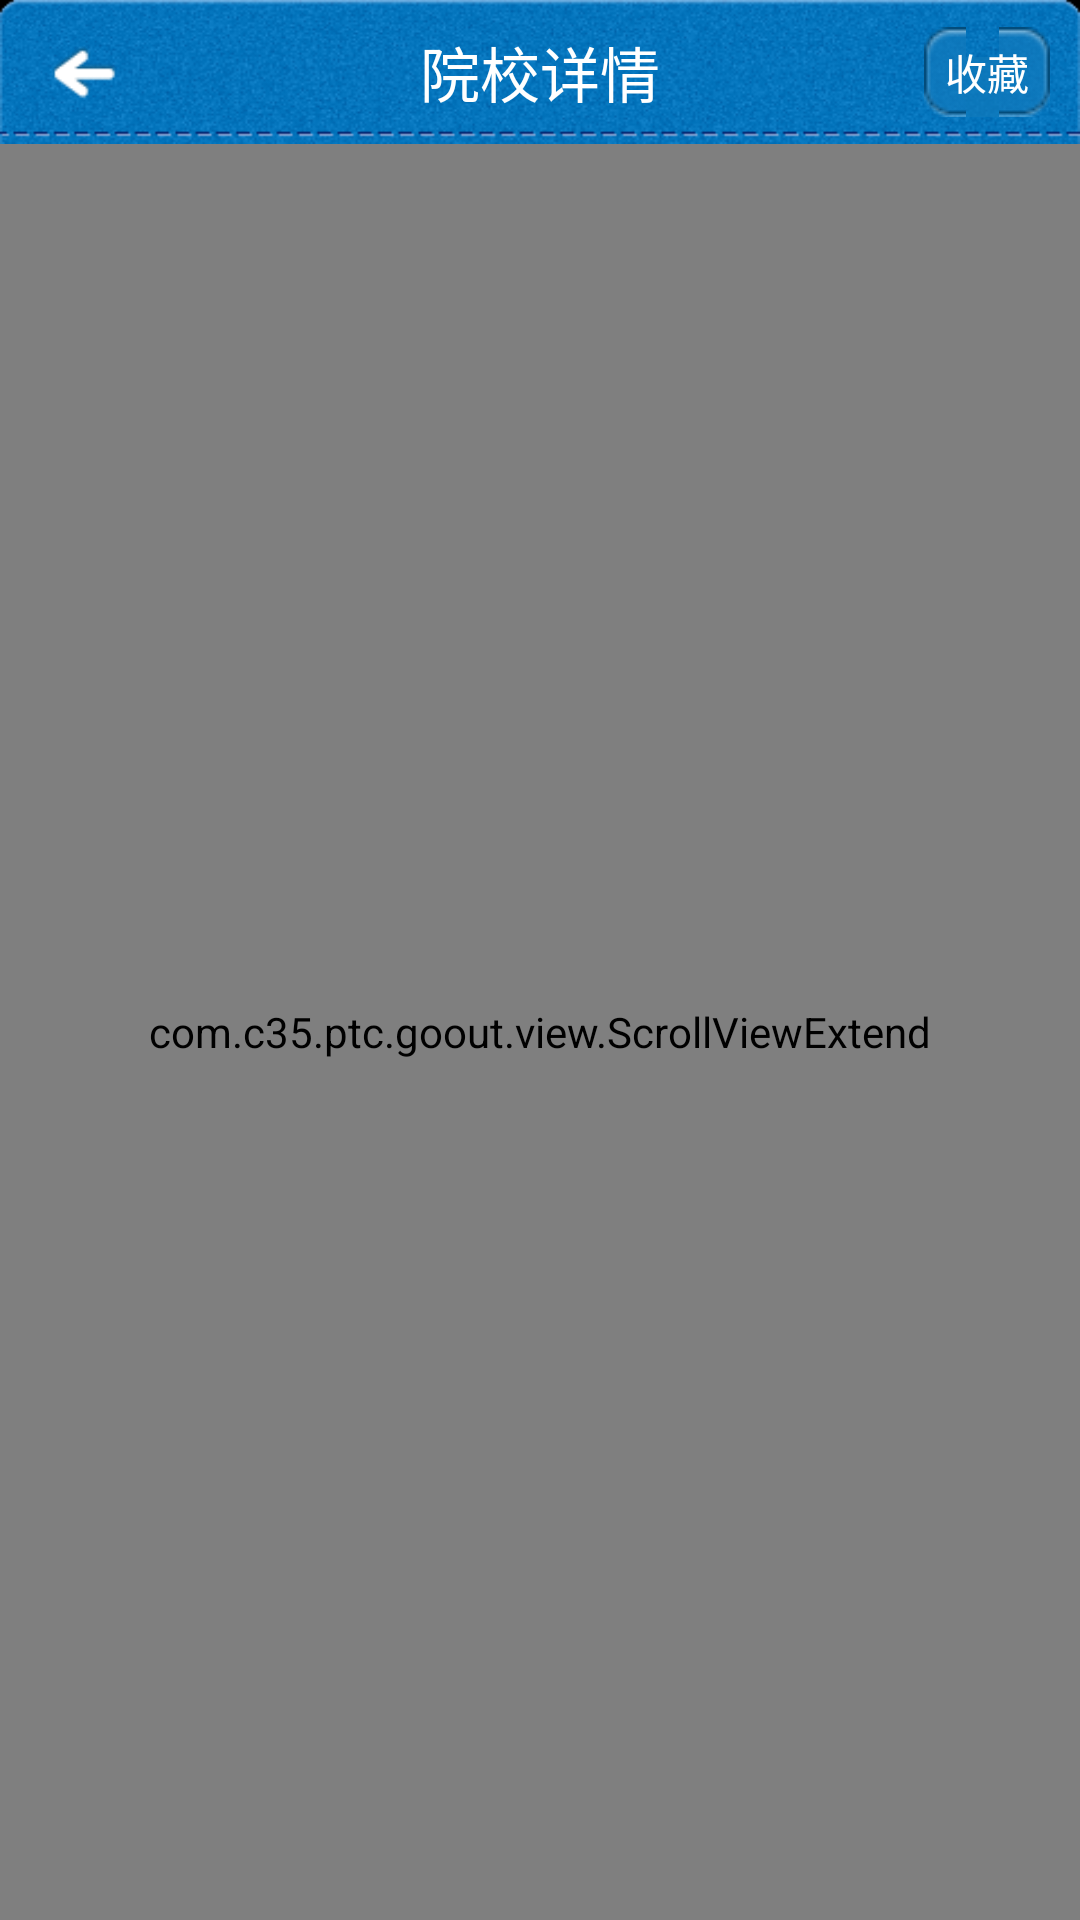

Locate icon controls on the screen. Image size 1080x1920, boxes as bbox=[x1, y1, x2, y2].
title back: bbox=[15, 48, 150, 137]
